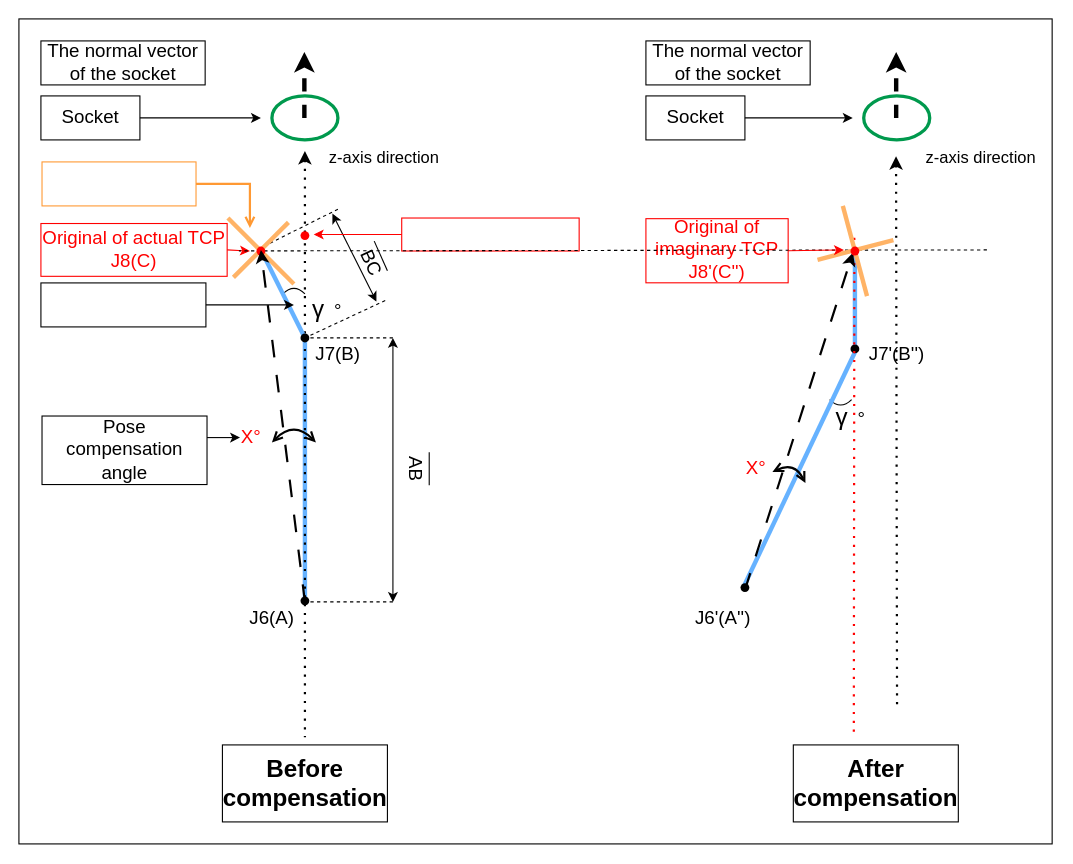
This 1073x864 diagram has some shape labels left out. Here are the shapes that lost their labels. From the top down, the centre of each, then its label:
pixel 118 183: actual TCP frame
pixel 490 234: Original of Ideal TCP
pixel 123 304: The angle of wire banded
